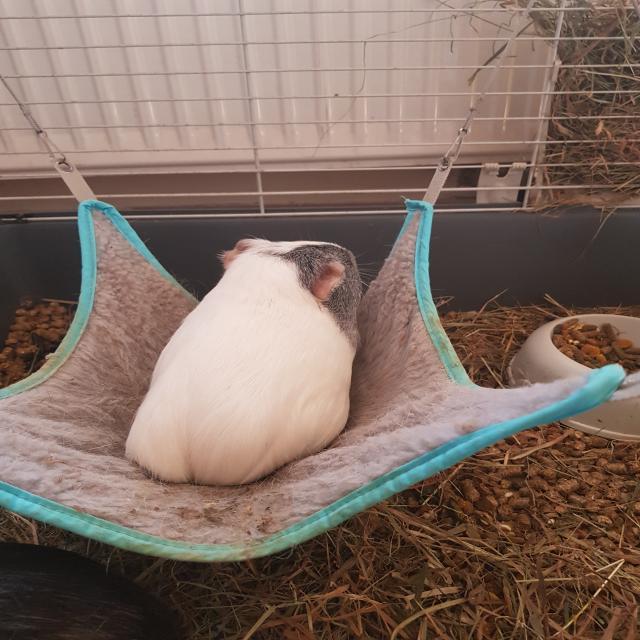guinea pig: (122, 235, 360, 490)
